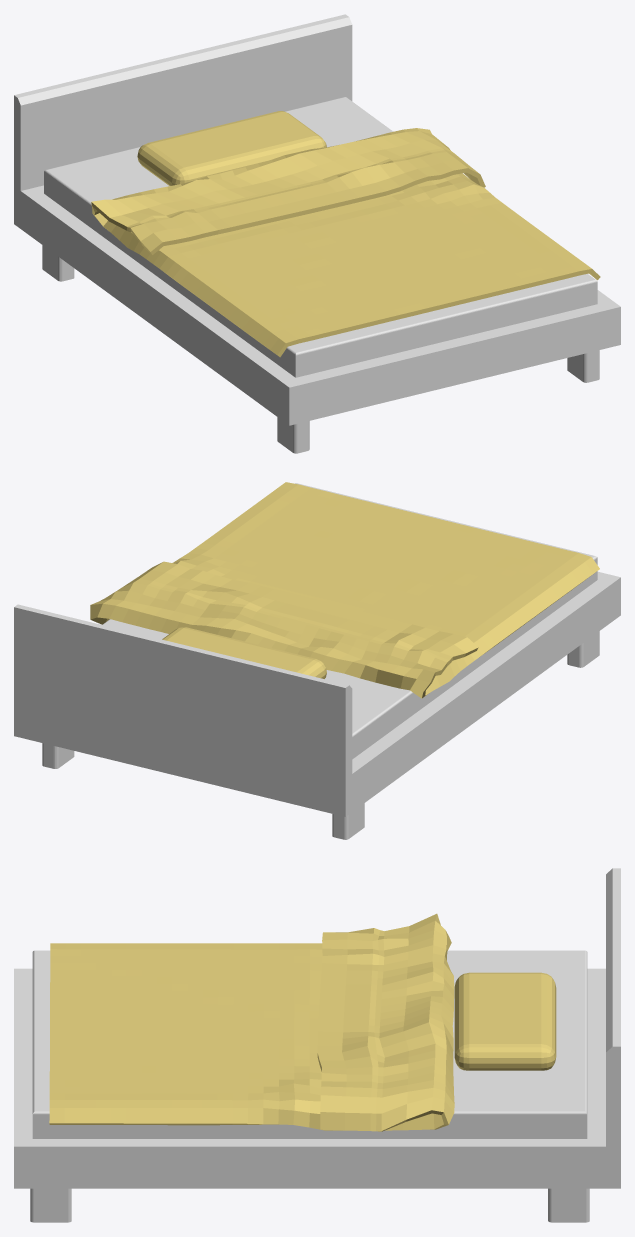
The model's file is HomeBed.fbx.
3 renders of one model, top to bottom at view 1: azimuth 30°, elevation 25°; view 2: azimuth 150°, elevation 25°; view 3: azimuth 270°, elevation 25°, orthographic. The views are drawn at different scales.
Visible parts, largest first — view 1: bed, blanket, pillow; view 2: bed, blanket, pillow; view 3: blanket, bed, pillow.
Part boxes in pixels (left/top/right/bottom): bed: left=14, top=14, right=620, bottom=453; blanket: left=91, top=128, right=600, bottom=357; pillow: left=137, top=111, right=326, bottom=185; bed: left=14, top=483, right=620, bottom=839; blanket: left=90, top=482, right=599, bottom=698; pillow: left=162, top=627, right=326, bottom=678; blanket: left=49, top=913, right=454, bottom=1131; bed: left=14, top=868, right=620, bottom=1222; pillow: left=454, top=972, right=556, bottom=1070.
Size of the model in its own units: 2.08 by 2.88 by 0.9561.
